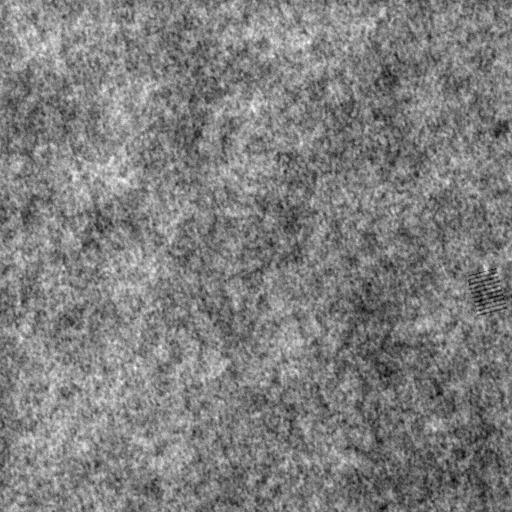DefectTypeB: (468, 268, 507, 319)
